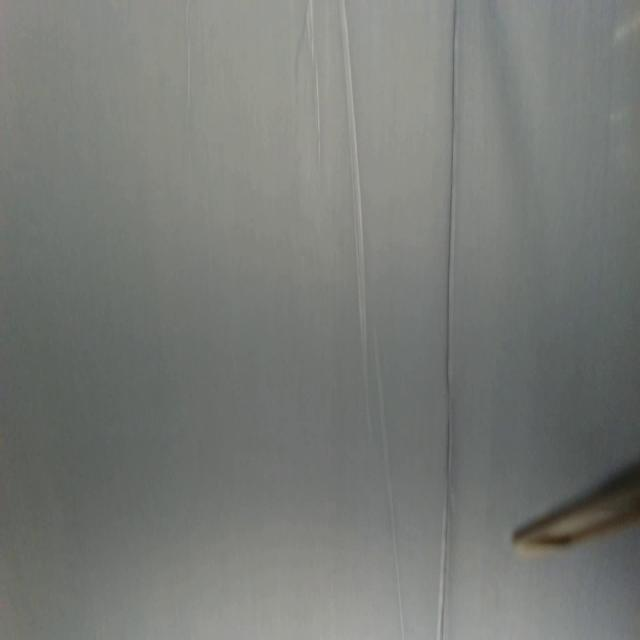crease: (338, 0, 371, 452), (437, 0, 458, 637), (372, 328, 406, 636), (306, 0, 324, 164), (183, 4, 193, 130)
